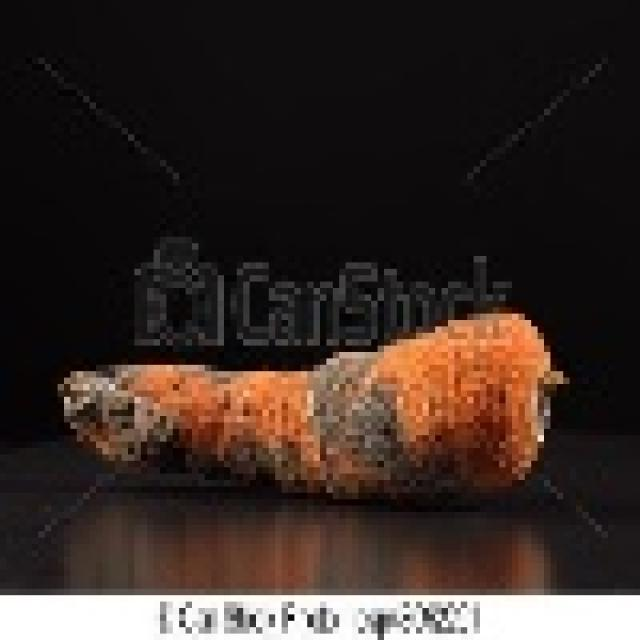Stale_Carrot: (53, 324, 569, 491)
